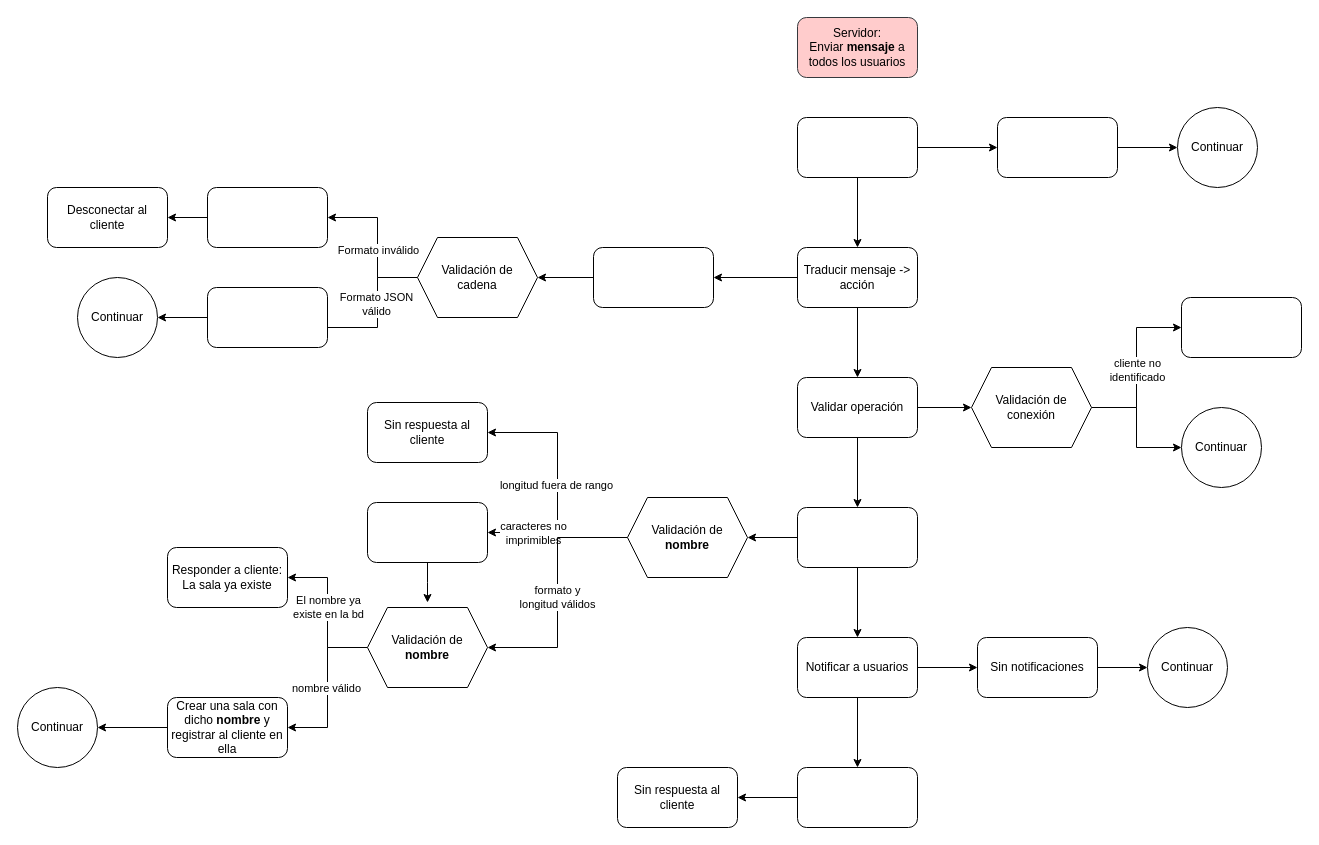
Some shapes in this 1319 by 845 pixel diagram are drawn without their labels. Here are the shapes that lost their labels. From the top down, the box of each, then its label:
(796, 116, 918, 178): Recibir mensaje por red
(996, 116, 1118, 178): Extraer bytes del mensaje
(206, 186, 328, 248): Responder a cliente: operación inválida
(592, 246, 714, 308): Traducir bytes a cadena
(206, 286, 328, 348): Traducir JSON a acción: enviar mensaje a todos los usuarios
(1180, 296, 1302, 358): Responder a cliente: operación inválida, usuario no identificado
(366, 502, 488, 562): Convertirlos a imprimibles
(796, 506, 918, 568): Acción Enviar mensaje todos los usuarios
(796, 766, 918, 828): Responder a cliente
